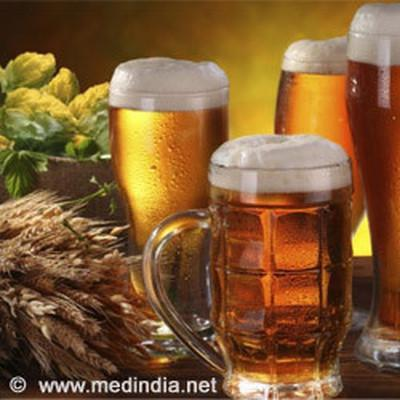beer: (113, 8, 400, 395)
